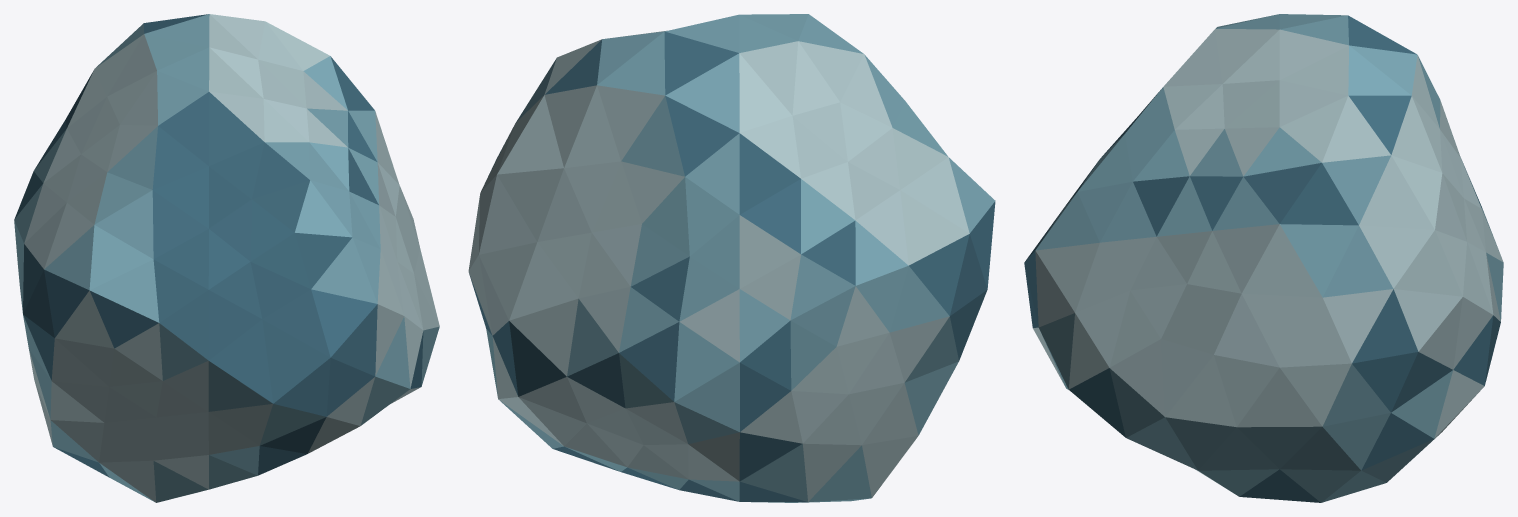
File: asteroid-ice.glb
3 renders of one model, left to right at view 1: azimuth 30°, elevation 25°; view 2: azimuth 150°, elevation 25°; view 3: azimuth 270°, elevation 25°, orthographic. The views are drawn at different scales.
Visible parts, largest first — view 1: Fractured ring ice; view 2: Fractured ring ice; view 3: Fractured ring ice.
Part boxes in pixels (box(x1,y1,x2,y2)): Fractured ring ice: box(14, 14, 439, 502); Fractured ring ice: box(468, 14, 995, 502); Fractured ring ice: box(1024, 14, 1503, 502).
Size of the model in its own units: 1.73 by 1.76 by 1.75.
